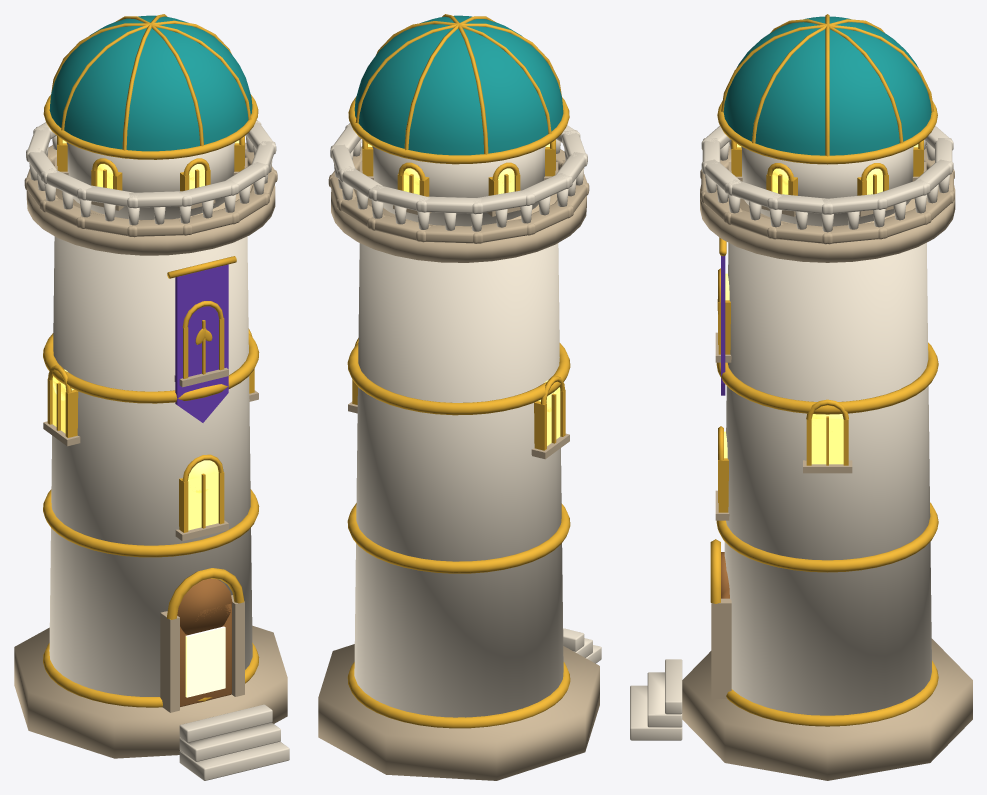
File: turn_4.glb
The picture shows the model from 3 angles, left to right: view 1: azimuth 30°, elevation 25°; view 2: azimuth 150°, elevation 25°; view 3: azimuth 270°, elevation 25°; orthographic projection. The views are drawn at different scales.
Parts seen in each view (by area): view 1: Turn.001; view 2: Turn.001; view 3: Turn.001.
Boxes of the visible parts, left/top/right/bottom form: Turn.001: left=14, top=14, right=289, bottom=780; Turn.001: left=318, top=14, right=601, bottom=780; Turn.001: left=630, top=14, right=972, bottom=780.
Bounding box in the file's own units: 2 × 5.28 × 2.36.
